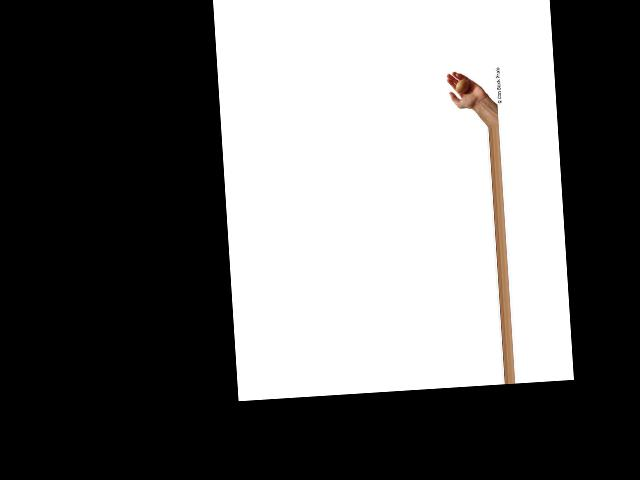egg: (455, 78, 469, 92)
